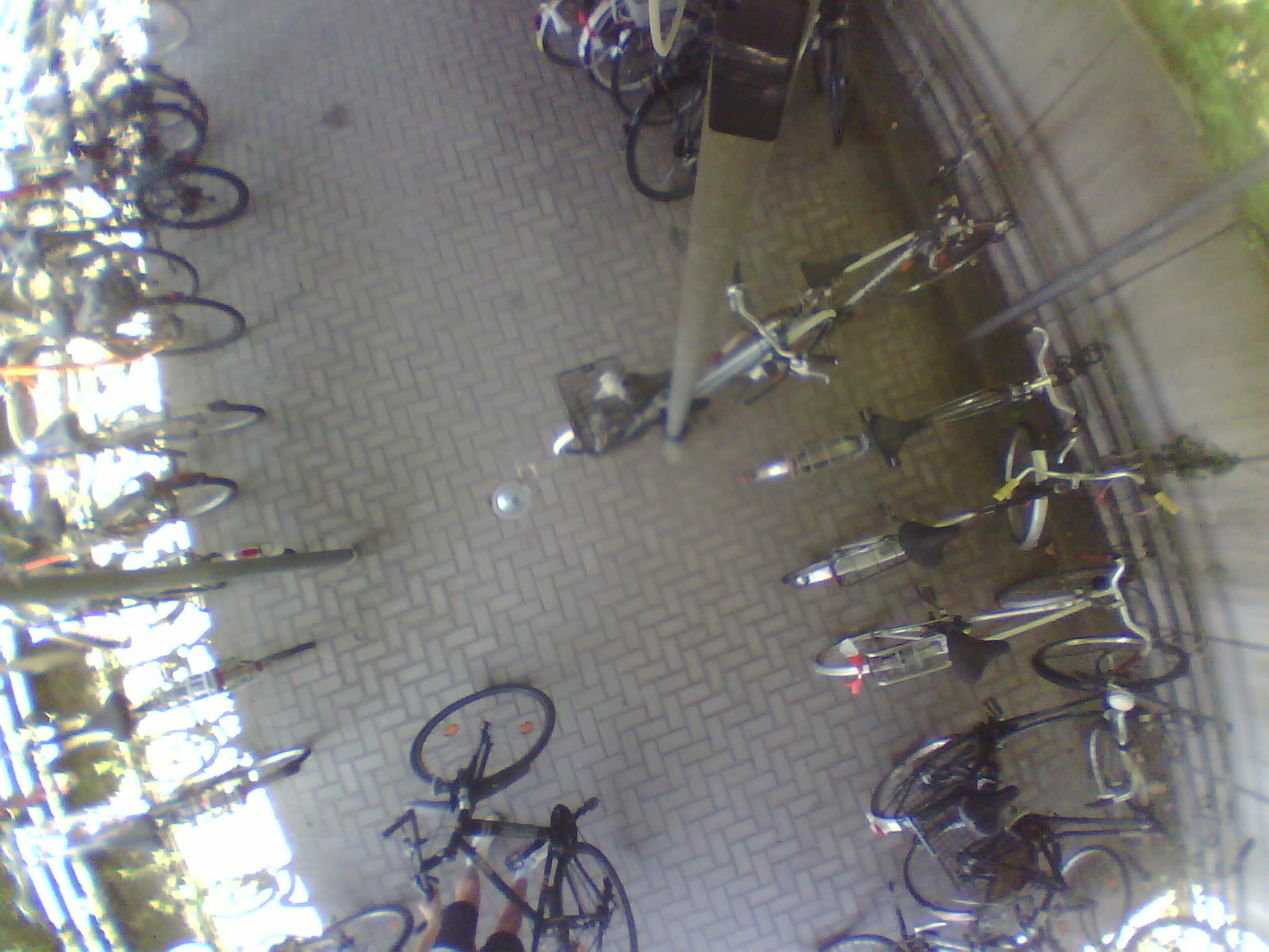bicylce: (407, 683, 645, 952), (869, 636, 1189, 835), (622, 0, 887, 195), (737, 353, 1089, 495), (720, 216, 1006, 383), (0, 614, 314, 765), (552, 301, 837, 460), (782, 423, 1053, 587), (811, 562, 1143, 681), (32, 746, 310, 862), (0, 279, 245, 389), (0, 386, 268, 475), (0, 152, 258, 243), (0, 533, 294, 612), (0, 474, 243, 546), (0, 231, 195, 309)
saddle: (863, 408, 931, 469), (79, 693, 139, 750), (901, 521, 975, 567), (959, 781, 1022, 832), (10, 494, 68, 546), (23, 413, 89, 458), (100, 816, 158, 864), (948, 634, 1009, 677), (0, 226, 51, 274), (25, 301, 73, 342), (805, 251, 852, 292), (618, 363, 670, 398), (38, 120, 75, 148)
